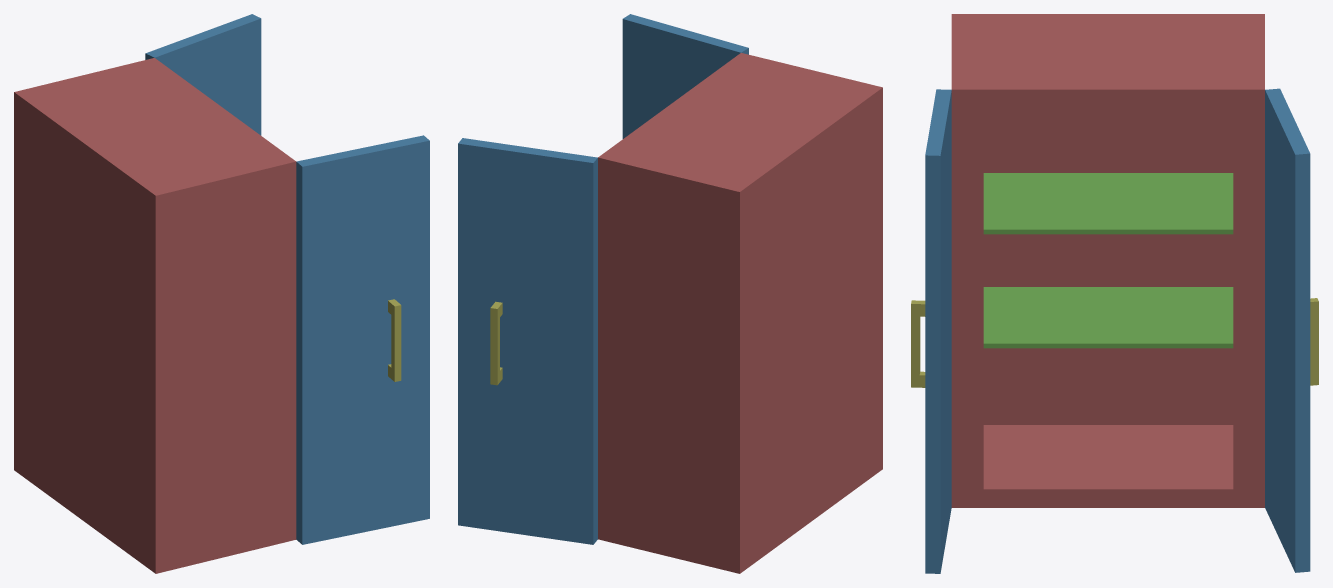
The model's file is Aufbewahrungsschrank_low.fbx.
The picture shows the model from 3 angles, left to right: view 1: azimuth 30°, elevation 25°; view 2: azimuth 150°, elevation 25°; view 3: azimuth 270°, elevation 25°; orthographic projection. The views are drawn at different scales.
Parts seen in each view (by area): view 1: Mesh; view 2: Mesh; view 3: Mesh.
Part boxes in pixels (x1,y1,x2,y2): Mesh: (14,14,429,573); Mesh: (458,14,882,573); Mesh: (911,14,1318,573).
Bounding box in the file's own units: 1.31 × 1.8 × 1.59.
